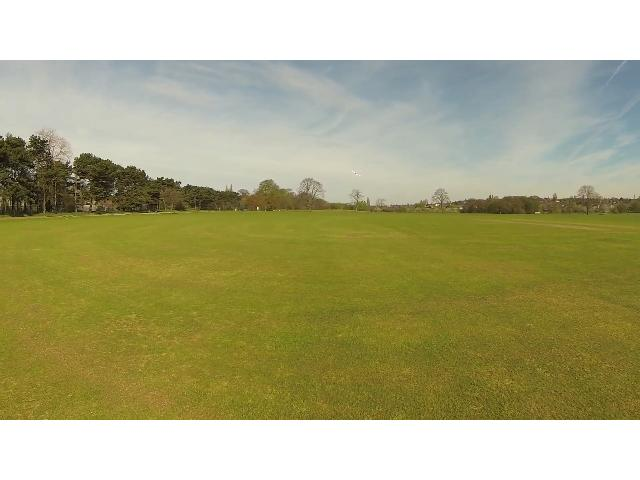Anti-Drone: (348, 167, 368, 181)
